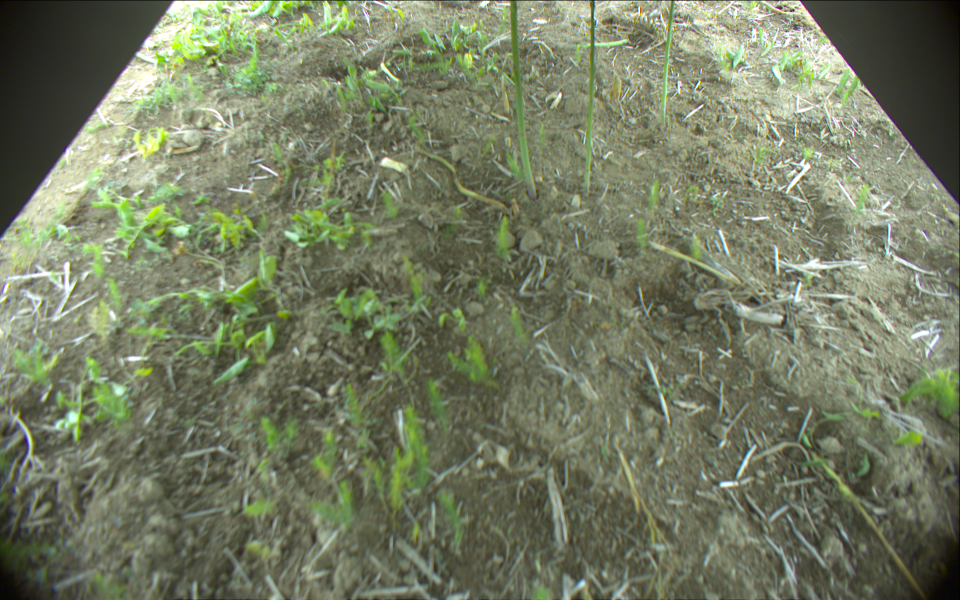aspa: (413, 141, 511, 211), (509, 1, 539, 201), (649, 241, 739, 282), (583, 1, 597, 197), (661, 1, 678, 121), (580, 39, 629, 50)
